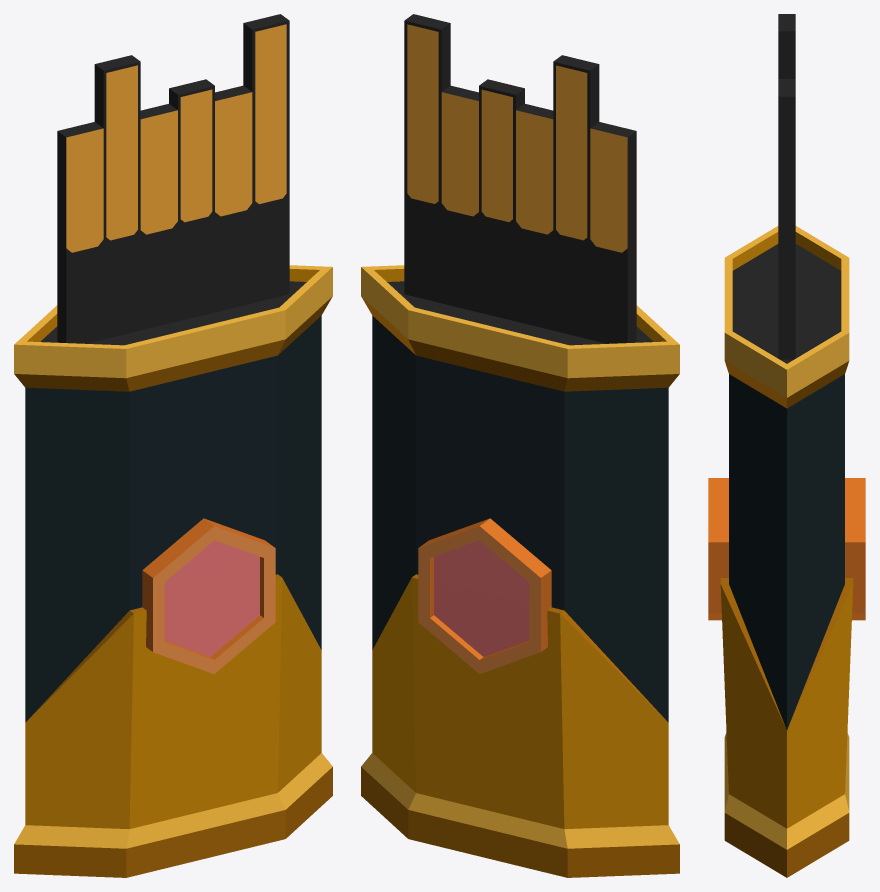
Rendered from Chip_03.glb.
3 views of the same model, side by side, from view 1: azimuth 30°, elevation 25°; view 2: azimuth 150°, elevation 25°; view 3: azimuth 270°, elevation 25° (orthographic). The views are drawn at different scales.
Visible parts, largest first — view 1: Chip_03; view 2: Chip_03; view 3: Chip_03.
Boxes of the visible parts, x1,y1,x2,y2 form: Chip_03: (14, 14, 332, 877); Chip_03: (361, 14, 679, 877); Chip_03: (708, 14, 865, 877).
Size of what is drawn, in the model's own units: 0.1189 by 0.2816 by 0.0528.
1 material, 1 textured.
